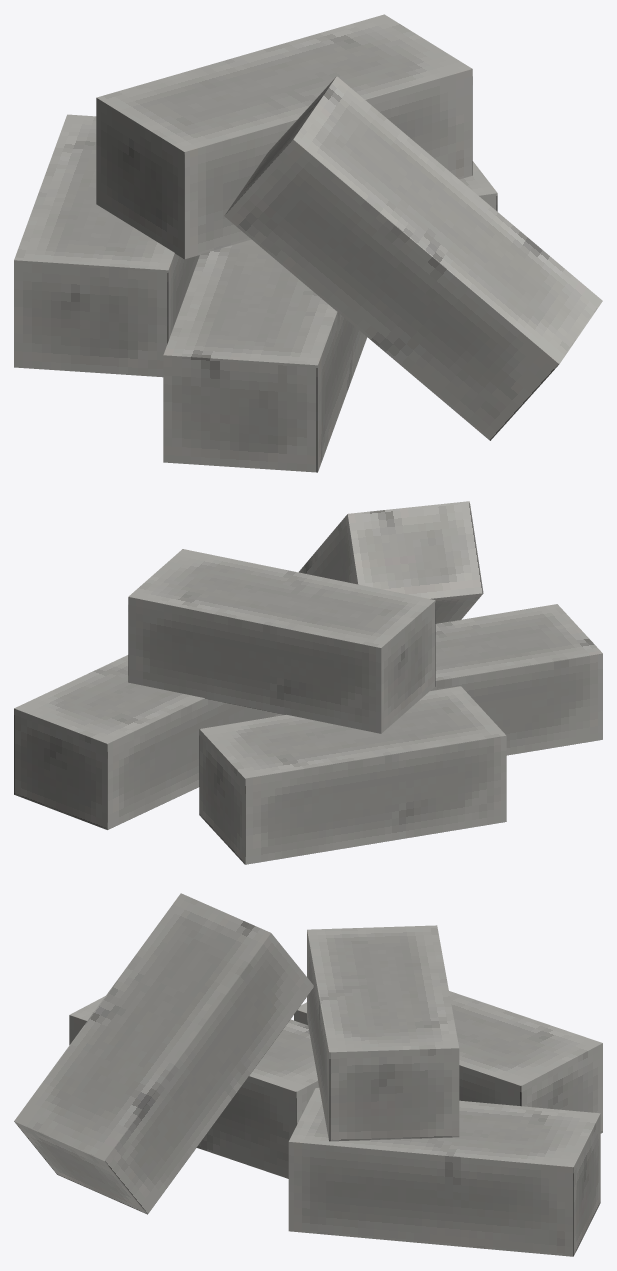
Rendered from Ruins_Bricks03_Geo.fbx.
3 views of the same model, one above another, from view 1: azimuth 30°, elevation 25°; view 2: azimuth 150°, elevation 25°; view 3: azimuth 270°, elevation 25° (orthographic). The views are drawn at different scales.
Parts seen in each view (by area): view 1: Bricks03_Geo; view 2: Bricks03_Geo; view 3: Bricks03_Geo.
Part boxes in pixels (box(x1,y1,x2,y2)): Bricks03_Geo: box(14, 14, 602, 472); Bricks03_Geo: box(14, 501, 602, 864); Bricks03_Geo: box(14, 893, 602, 1256).
Size of the model in its own units: 65.85 by 35.33 by 81.43.
